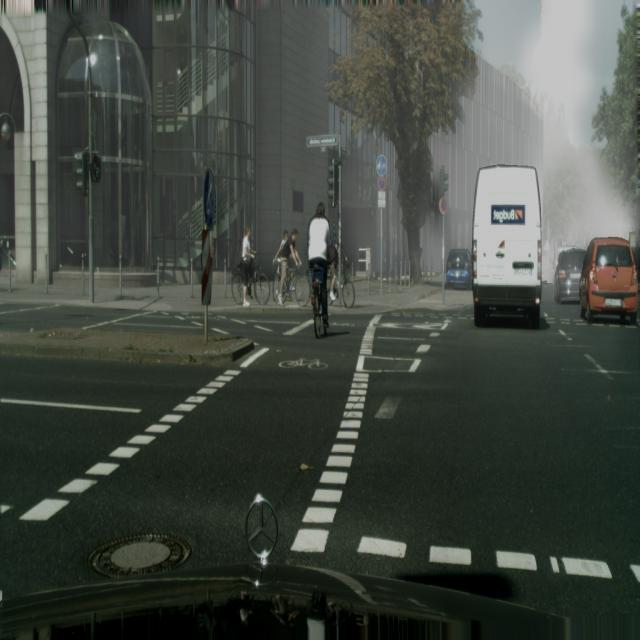car: (306, 190, 333, 337), (231, 225, 270, 306), (272, 229, 307, 306), (328, 223, 356, 309)
rider: (471, 165, 542, 329)
truck: (579, 236, 639, 325), (553, 248, 586, 303), (446, 248, 472, 289)
